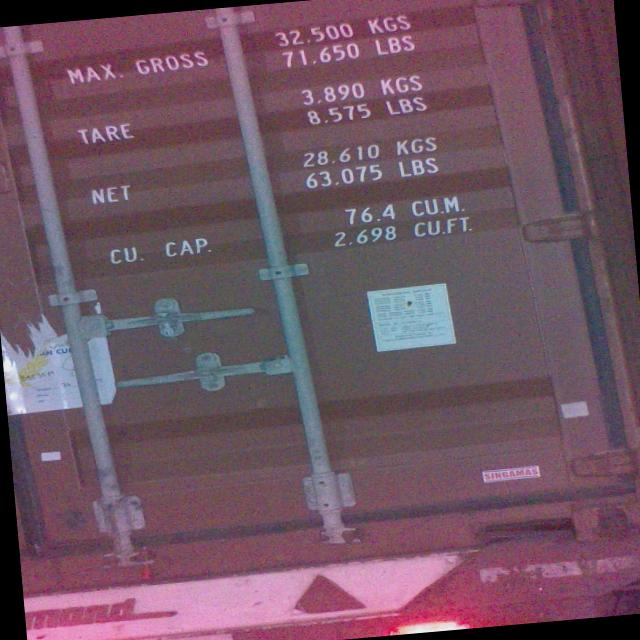seal: (127, 543, 166, 588), (148, 310, 181, 338)
